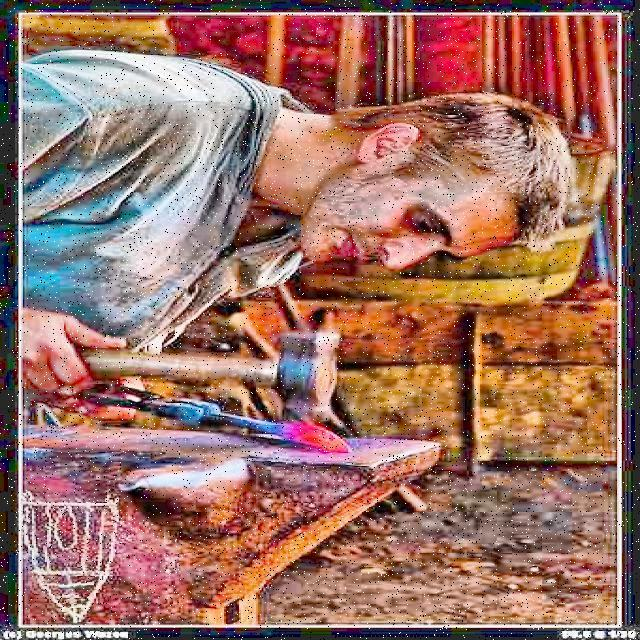hammer: (47, 327, 350, 429)
